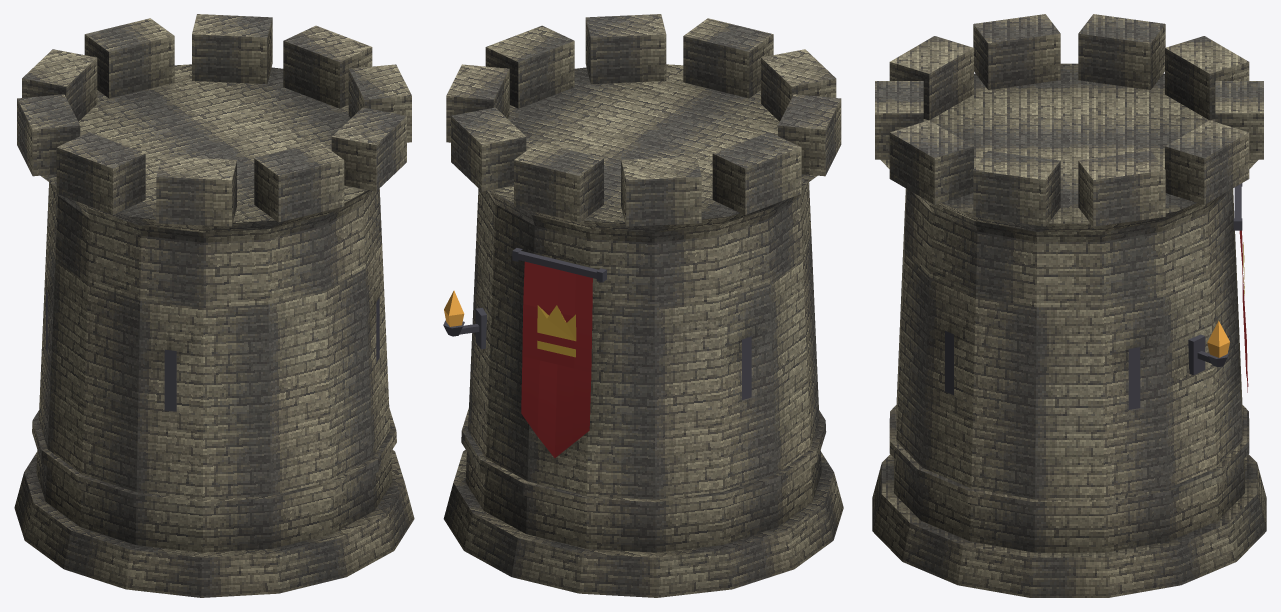
Rendered from guard_tower.glb.
3 renders of one model, left to right at view 1: azimuth 30°, elevation 25°; view 2: azimuth 150°, elevation 25°; view 3: azimuth 270°, elevation 25°, orthographic.
Visible parts, largest first — view 1: guard_tower; view 2: guard_tower; view 3: guard_tower.
Boxes of the visible parts, x1,y1,x2,y2 form: guard_tower: (14, 14, 414, 597); guard_tower: (443, 14, 843, 597); guard_tower: (872, 14, 1266, 597).
Size of the model in its own units: 4.45 by 5.2 by 4.45.
Materials: 5 (1 with a texture image).
